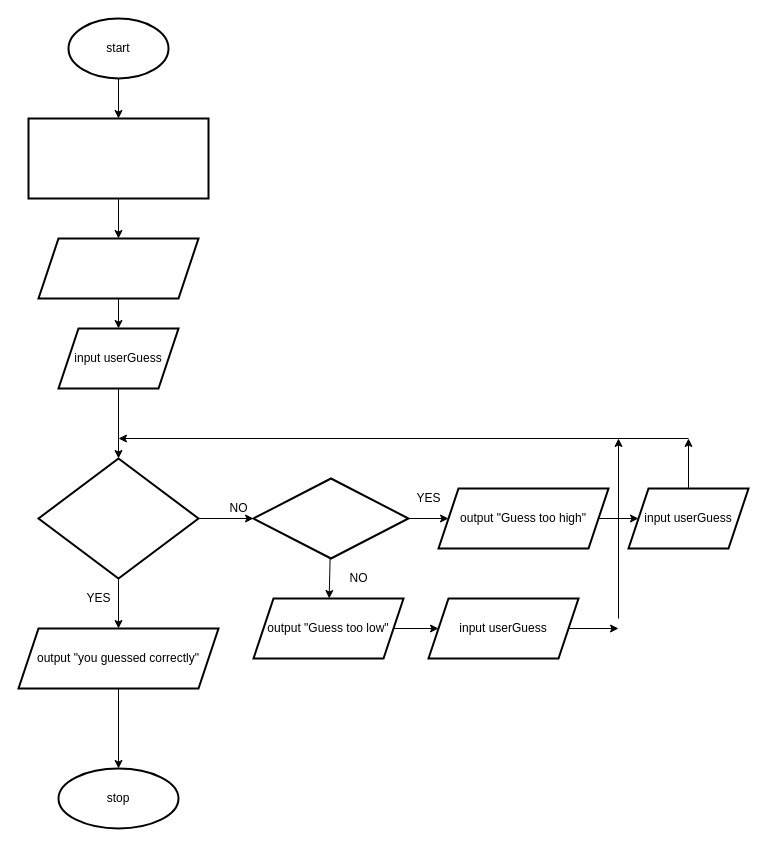
The diagram is 766 pixels wide and 846 high, and some of its shapes have lost their labels. The centre of each missing label's shape, as x and y in pixels:
Declarations num guess = random(100) num userGuess: (118,158)
guess == userGuess: (118,518)
guess > userGuess: (330,518)
output "enter a guess": (118,268)
